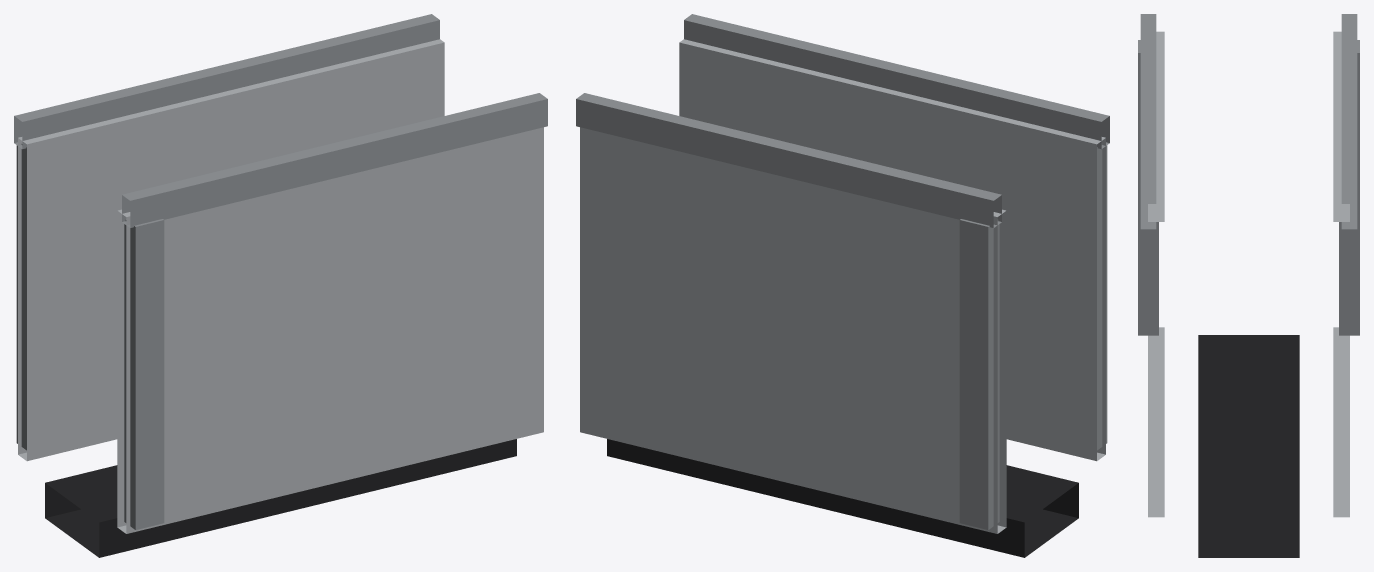
Rendered from crash_cushion_bay_core.obj.
The picture shows the model from 3 angles, left to right: view 1: azimuth 30°, elevation 25°; view 2: azimuth 150°, elevation 25°; view 3: azimuth 270°, elevation 25°; orthographic projection. The views are drawn at different scales.
Parts seen in each view (by area): view 1: crash_cushion_bay_core; view 2: crash_cushion_bay_core; view 3: crash_cushion_bay_core.
Part boxes in pixels (x1,y1,x2,y2): crash_cushion_bay_core: [14, 14, 547, 557]; crash_cushion_bay_core: [576, 14, 1109, 557]; crash_cushion_bay_core: [1138, 14, 1359, 557].
Bounding box in the file's own units: 1 × 0.8687 × 0.4938.
